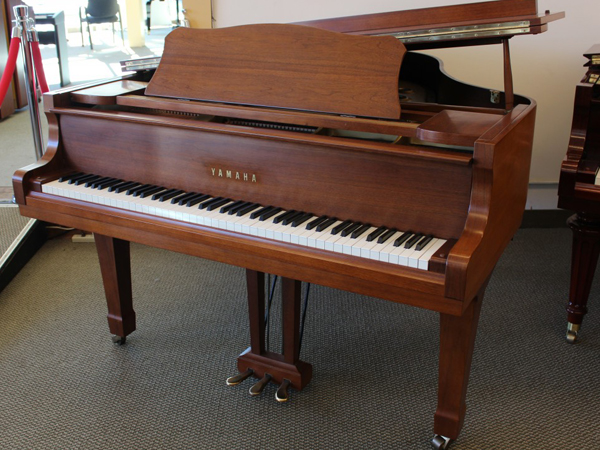GrandPiano: (37, 53, 545, 297)
